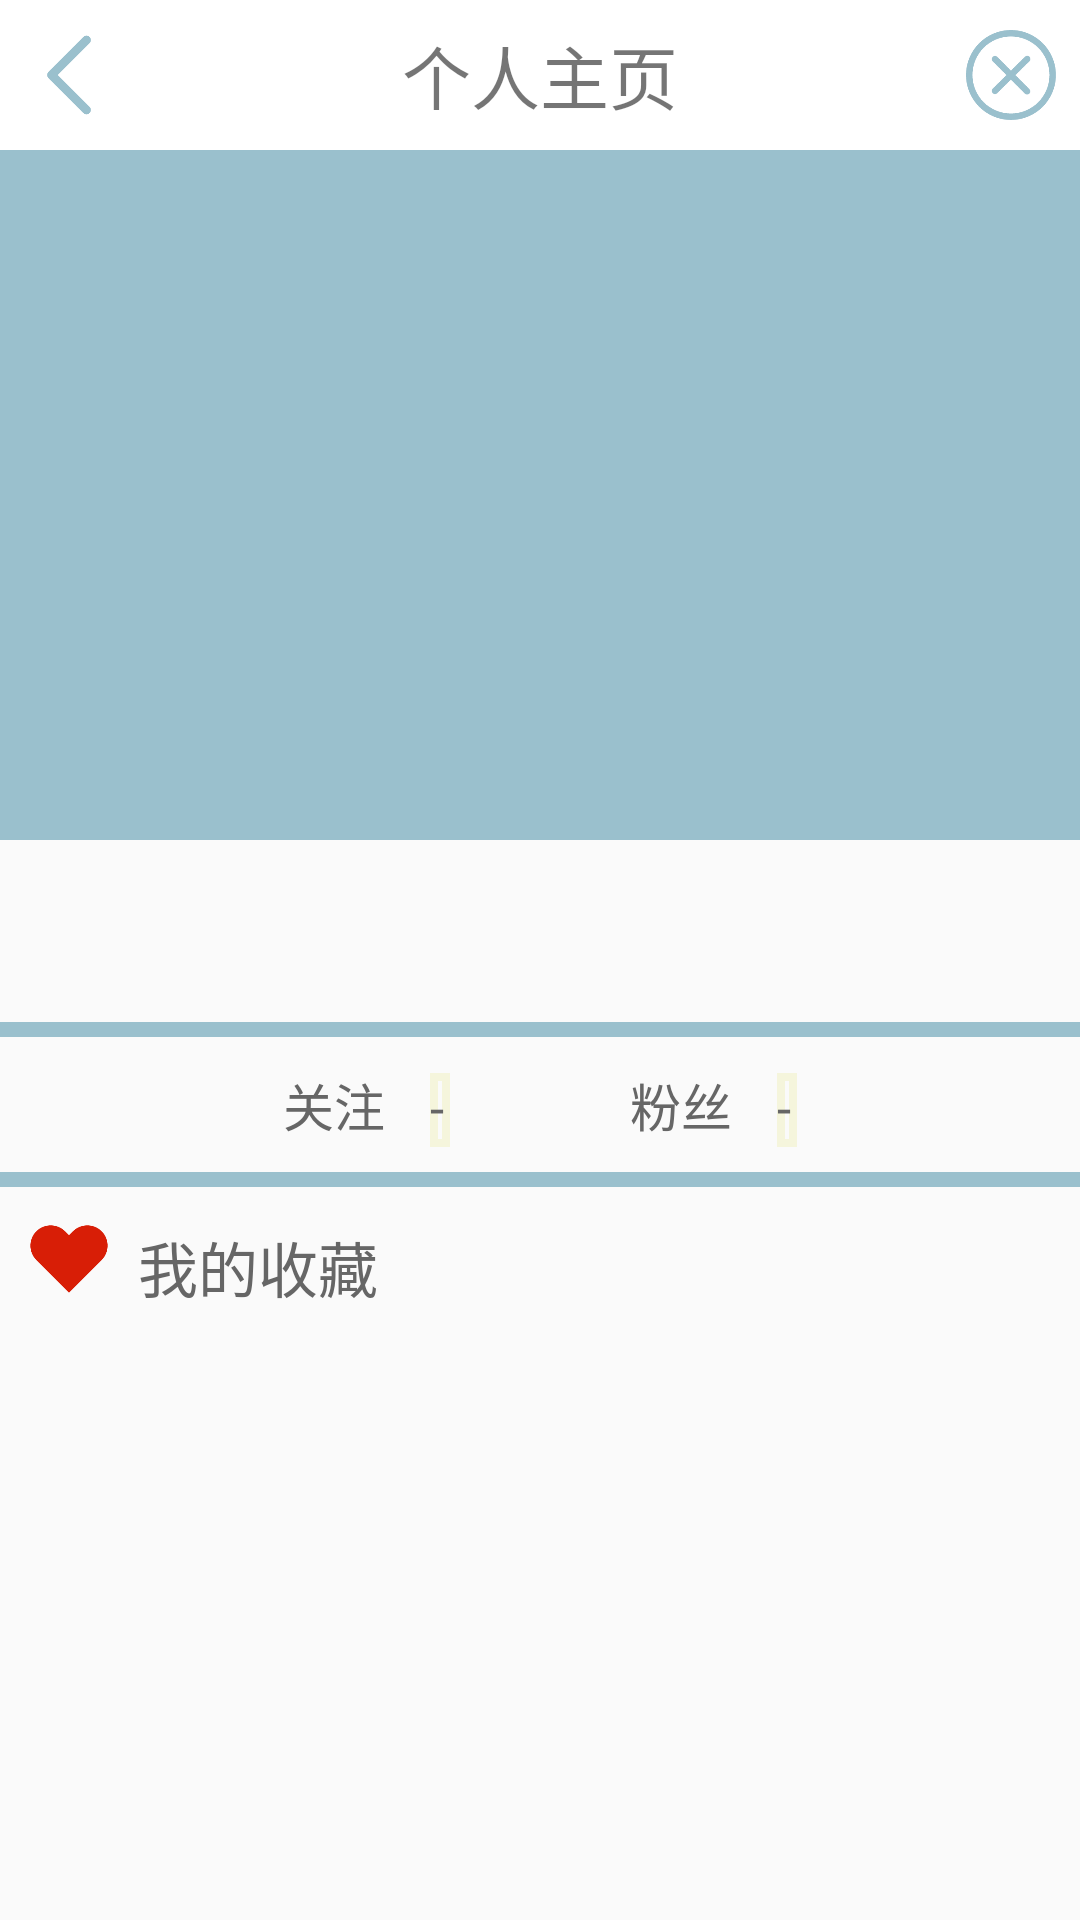

Point at icon controls on the screen. Image size 1080*1920, points as point (x, y).
cancel: point (1011, 75)
heart: point (69, 1259)
returnto: point (69, 75)
